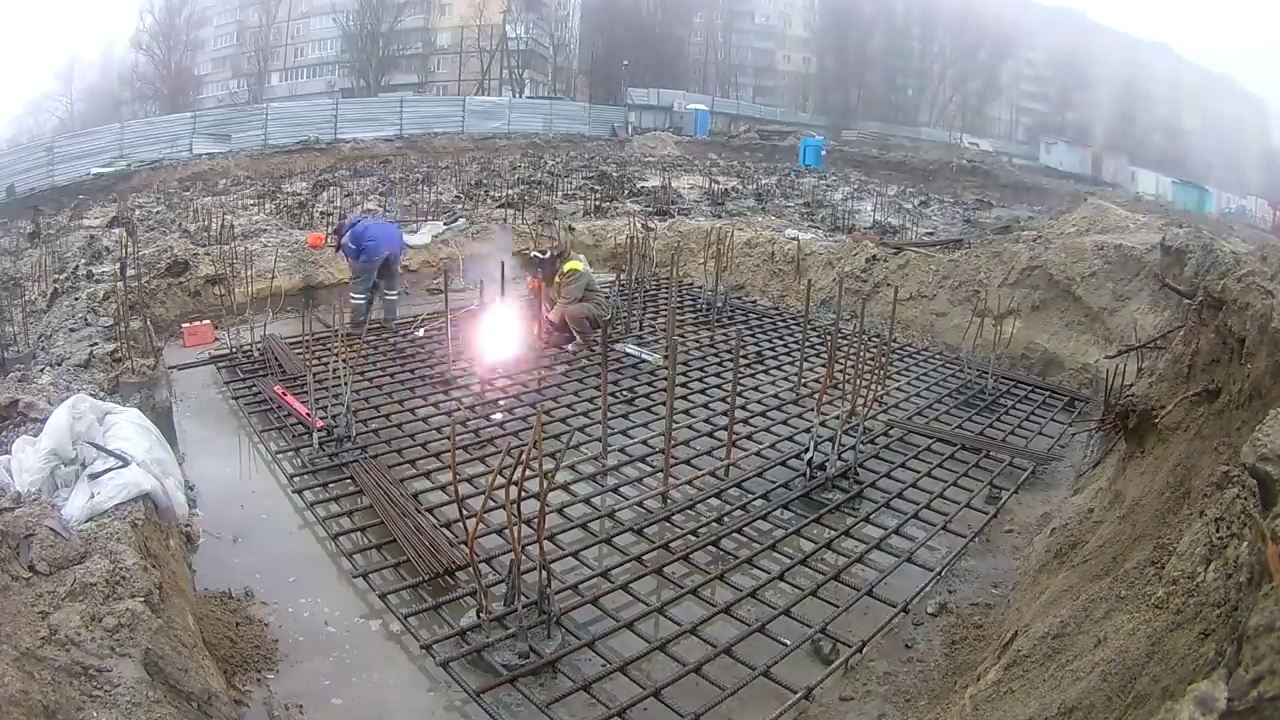helmet: (305, 232, 326, 249)
helmet-off: (524, 250, 568, 288)
person: (518, 249, 603, 355), (333, 212, 403, 334)
